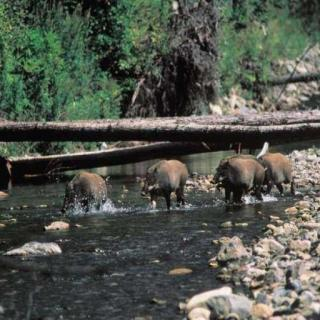Pig: (203, 145, 270, 211), (50, 165, 118, 212), (144, 156, 198, 211), (260, 151, 296, 197)
